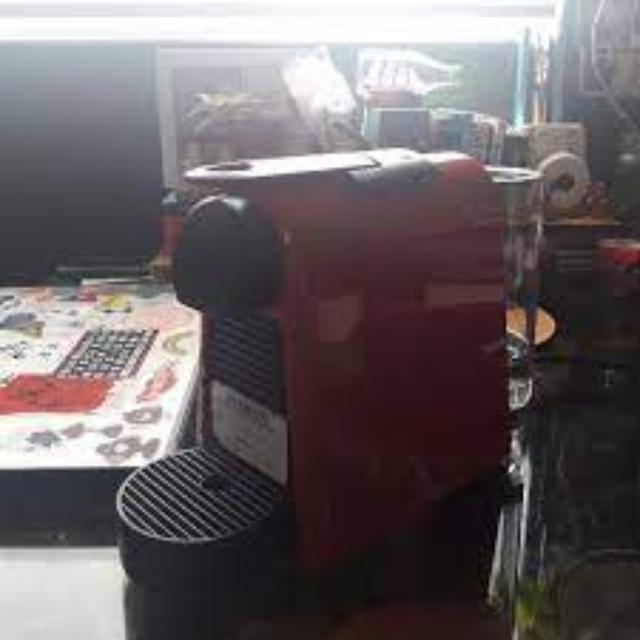Coffee-Machine: (120, 147, 514, 583)
